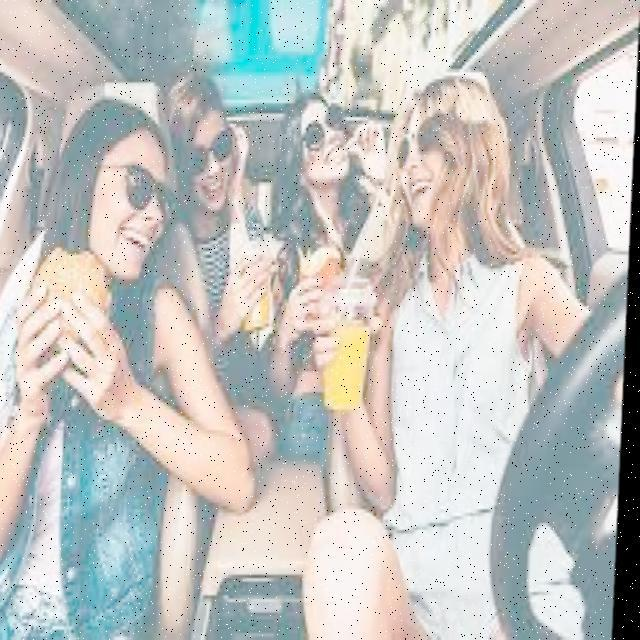noSeatbelt: (0, 251, 199, 640), (371, 232, 556, 516)
